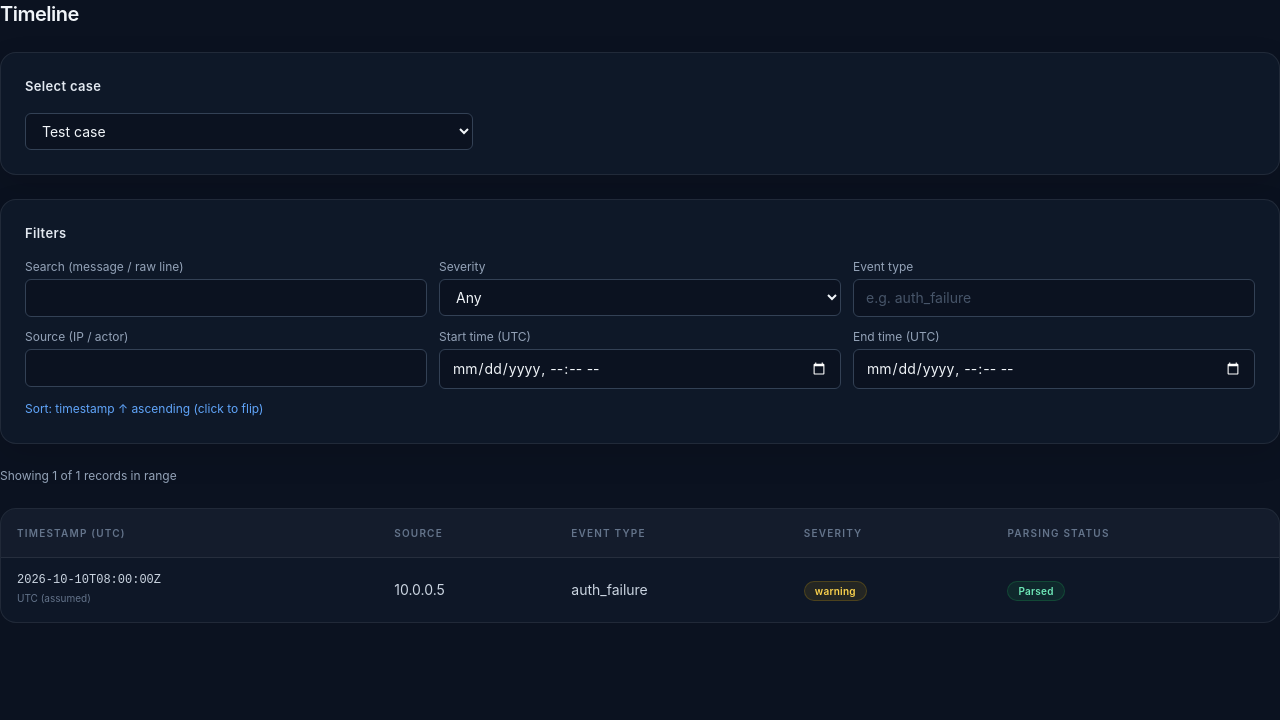
Test: Timeline page › opens the detail drawer with raw_line and evidence info on row click
The width and height of the screenshot is (1280, 720).
Click the text "auth_failure" at (610, 590), box [555,558,788,622]
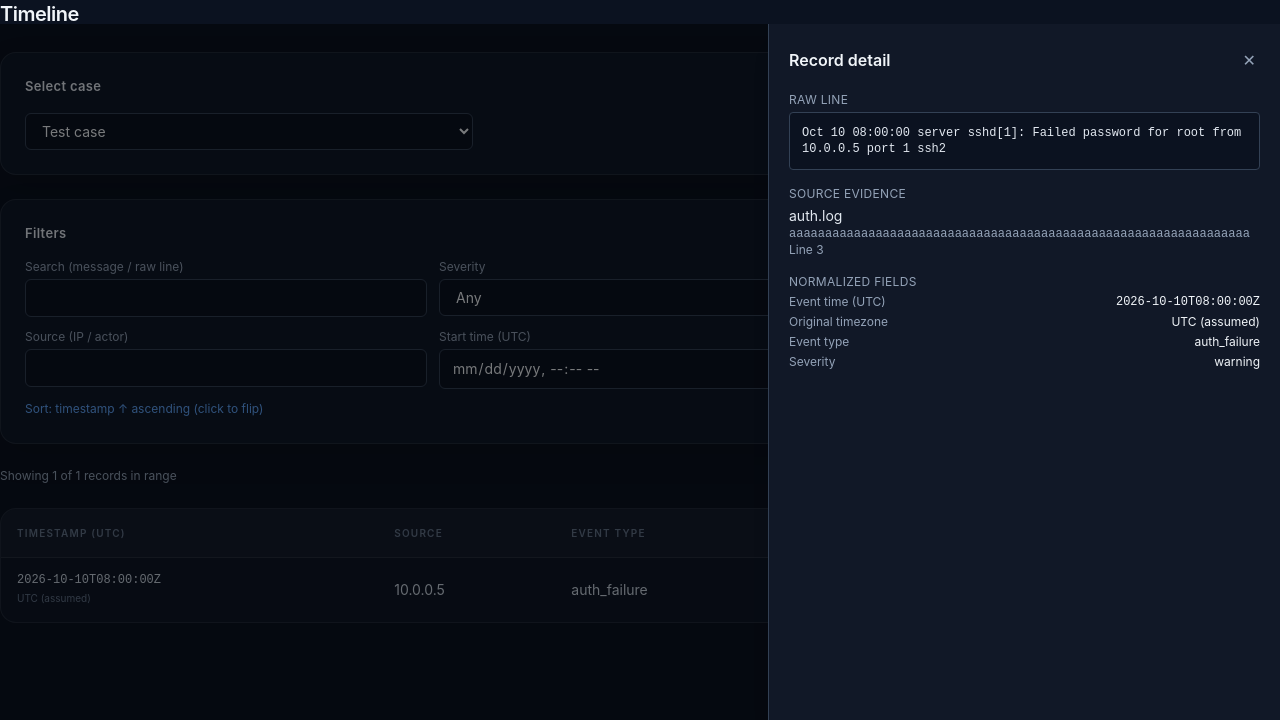
Check: the heading "Record detail" is shown, box [789,48,890,72]
Check: the text "Oct 10 08:00:00 server sshd[1]: Failed password for root from 10.0.0.5 port 1 ssh2" is shown, box [802,126,1248,156]
Check: the text "auth.log" is shown, box [789,207,842,224]
